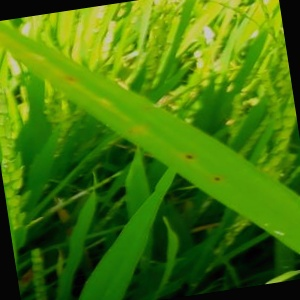Bacterial_Leaf_Blight: (61, 72, 76, 84), (181, 150, 195, 162), (210, 173, 224, 185), (125, 127, 138, 138), (141, 104, 154, 115)
